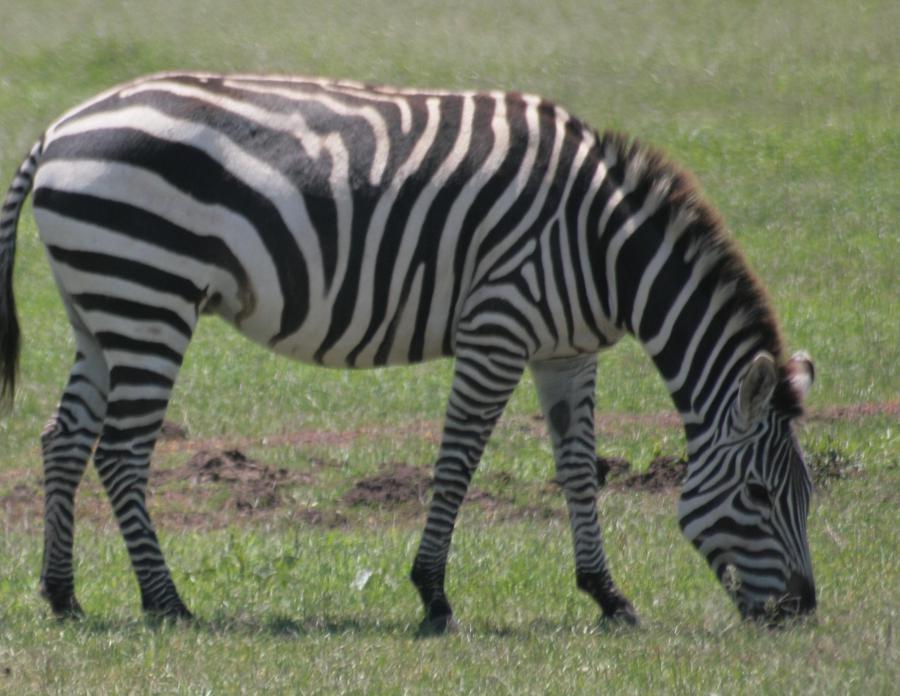zebra_plains: (35, 55, 582, 365)
